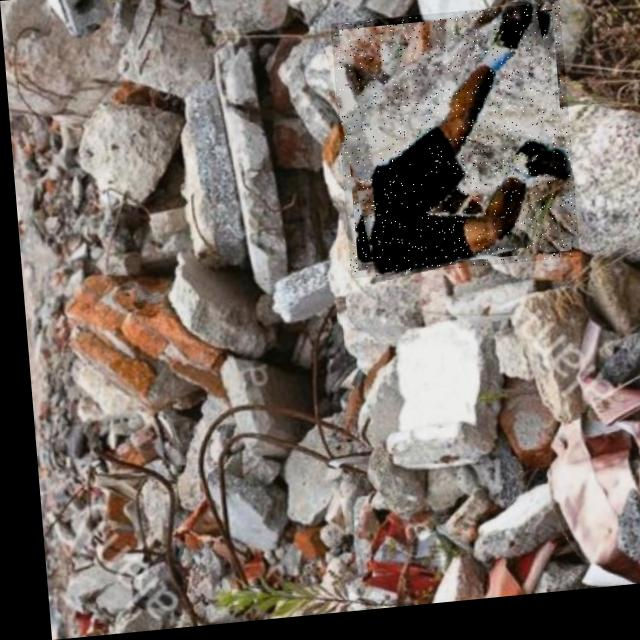Person in Rubble: (329, 12, 575, 284)
